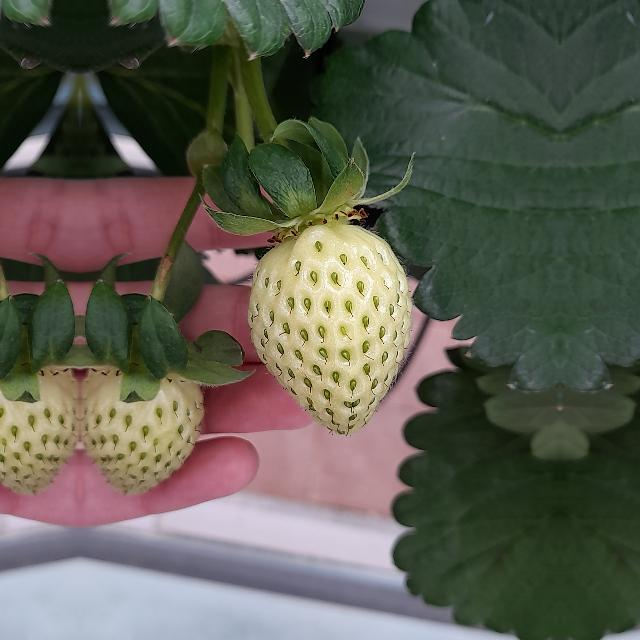Health_25: (246, 216, 412, 434), (80, 351, 208, 494), (0, 350, 80, 493)
